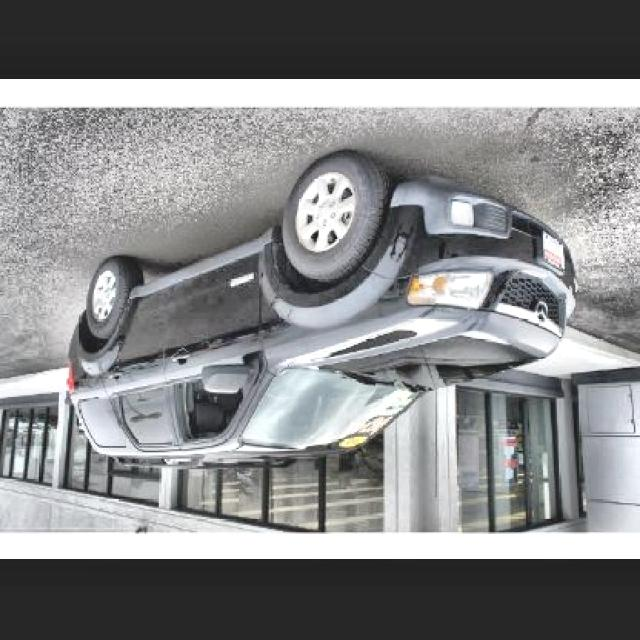black: (70, 153, 571, 465)
